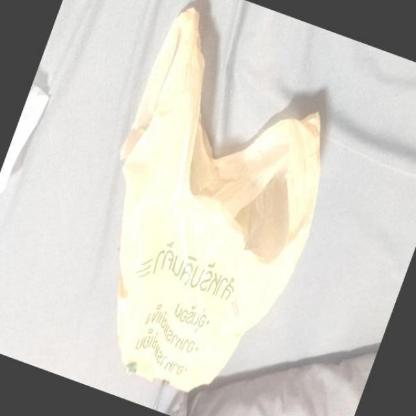Plastic Bag: (115, 5, 324, 395)
